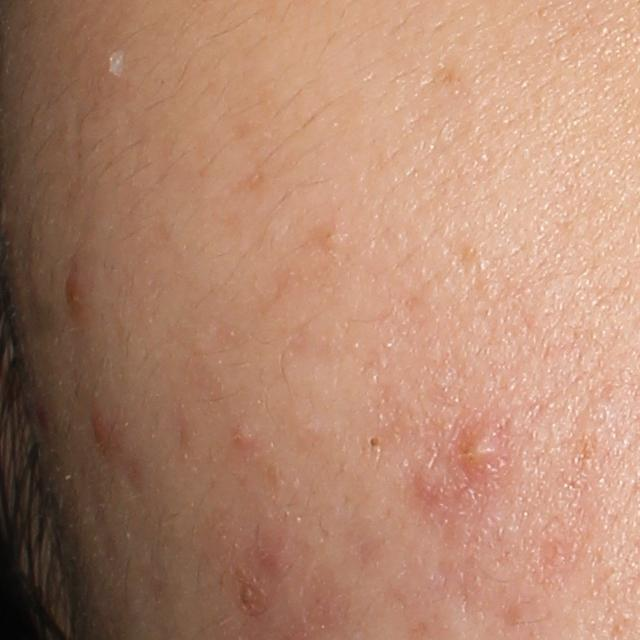comedo: (316, 222, 340, 252), (366, 433, 384, 452)
papule: (450, 424, 514, 482), (58, 258, 94, 324), (82, 404, 115, 454)
